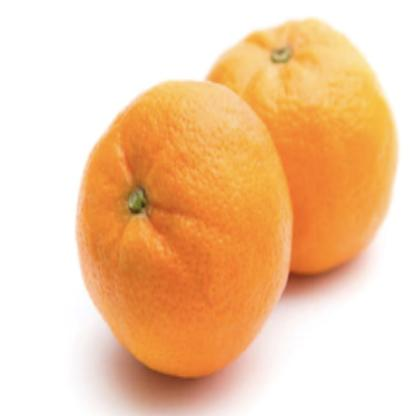fresh: (76, 18, 397, 383)
